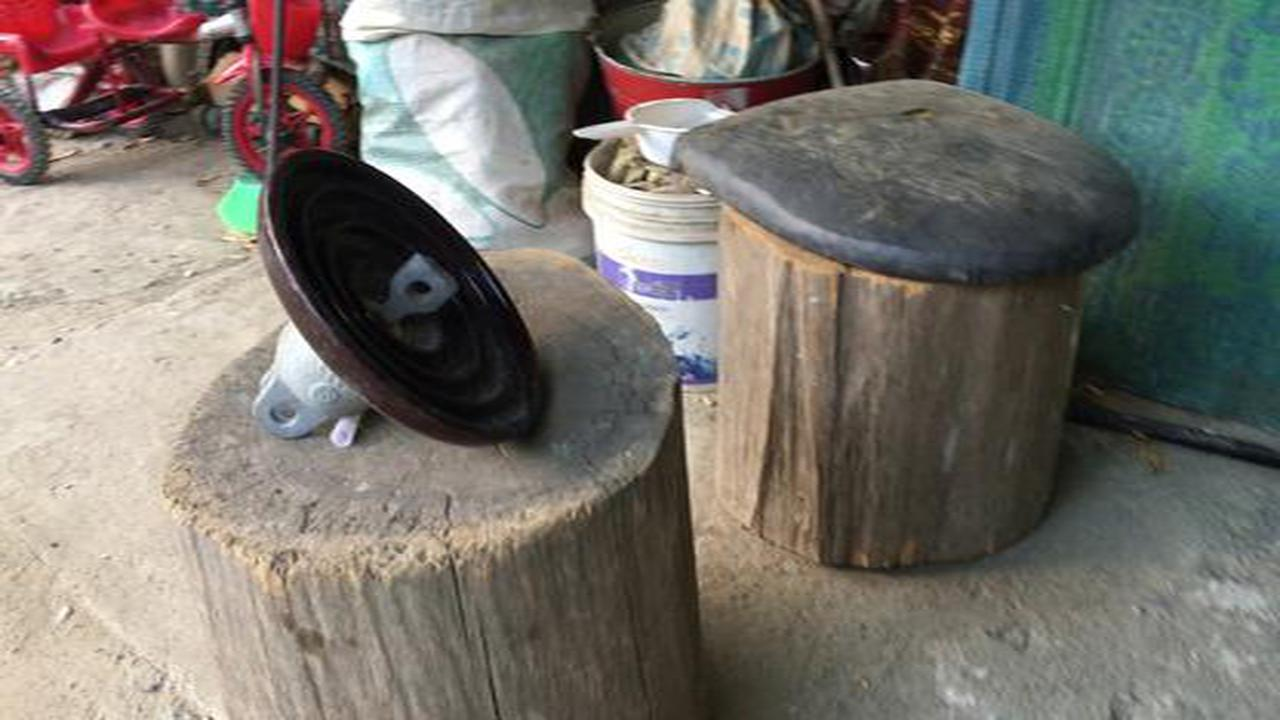insulator_disc: (246, 146, 553, 465)
